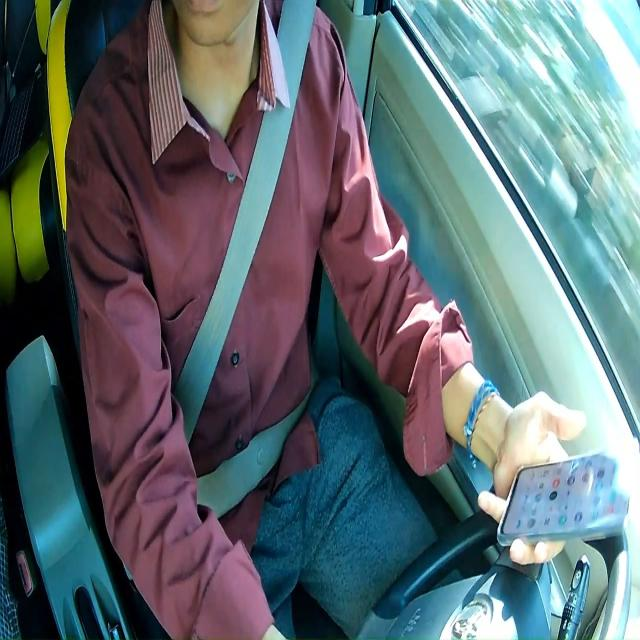phone: (494, 447, 630, 553)
